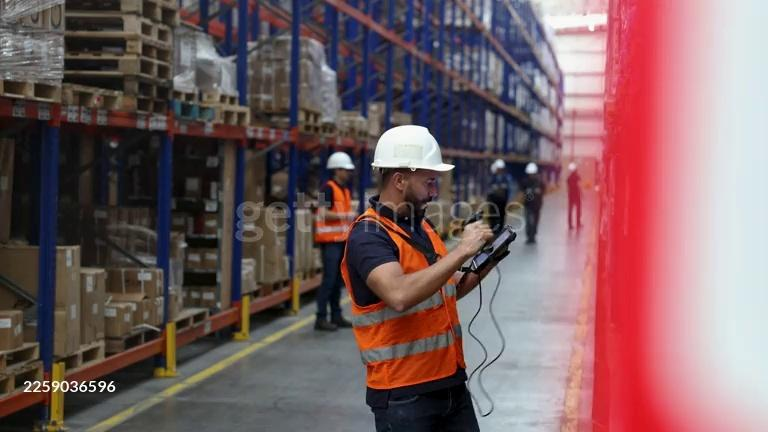helmet: (371, 125, 455, 171), (327, 152, 355, 170), (491, 160, 506, 171), (526, 163, 538, 174)
person: (341, 125, 508, 431), (313, 151, 359, 332), (480, 159, 516, 229), (517, 162, 545, 244), (564, 163, 582, 233)
